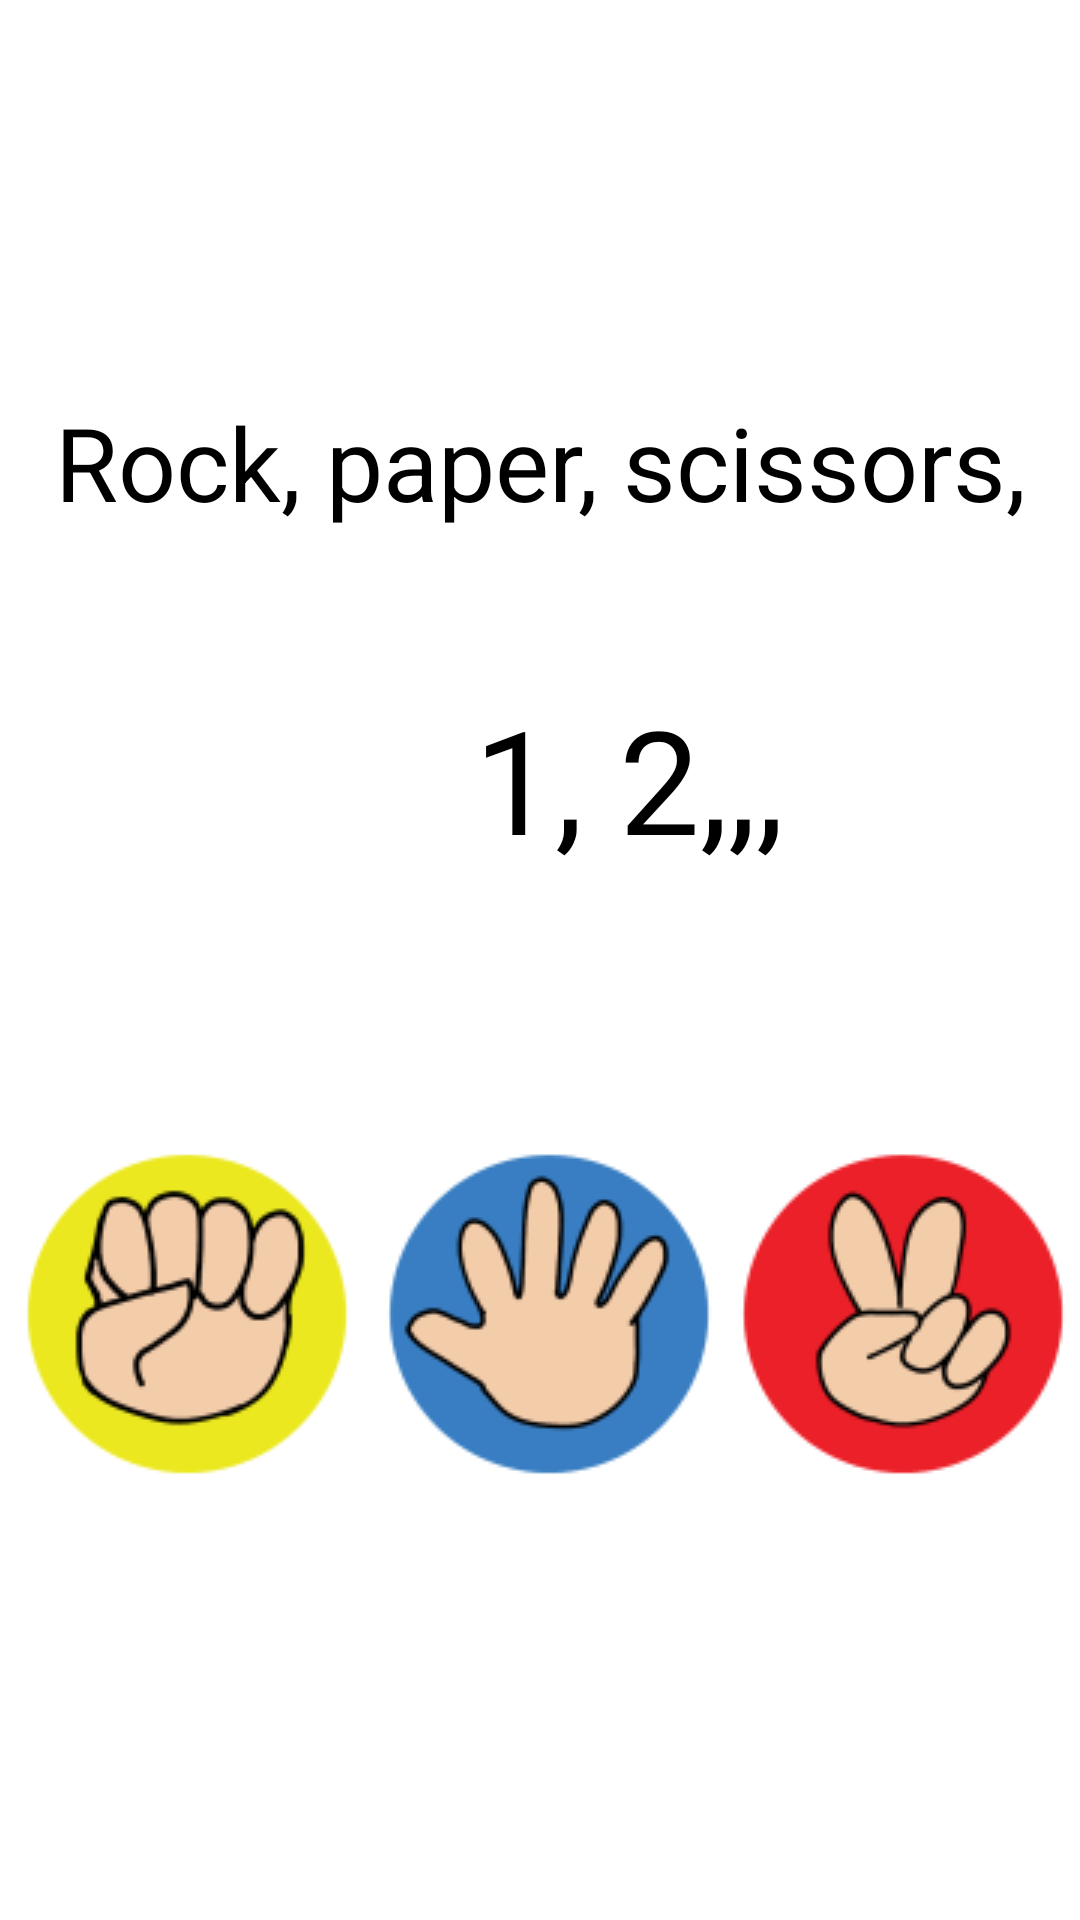

Icons on this 1080w x 1920h Android screen, each with its box as Rect(x1, y1, x2, y2):
gu start: Rect(27, 1154, 347, 1474)
pa start: Rect(389, 1154, 709, 1474)
tyoki start: Rect(743, 1154, 1063, 1474)
